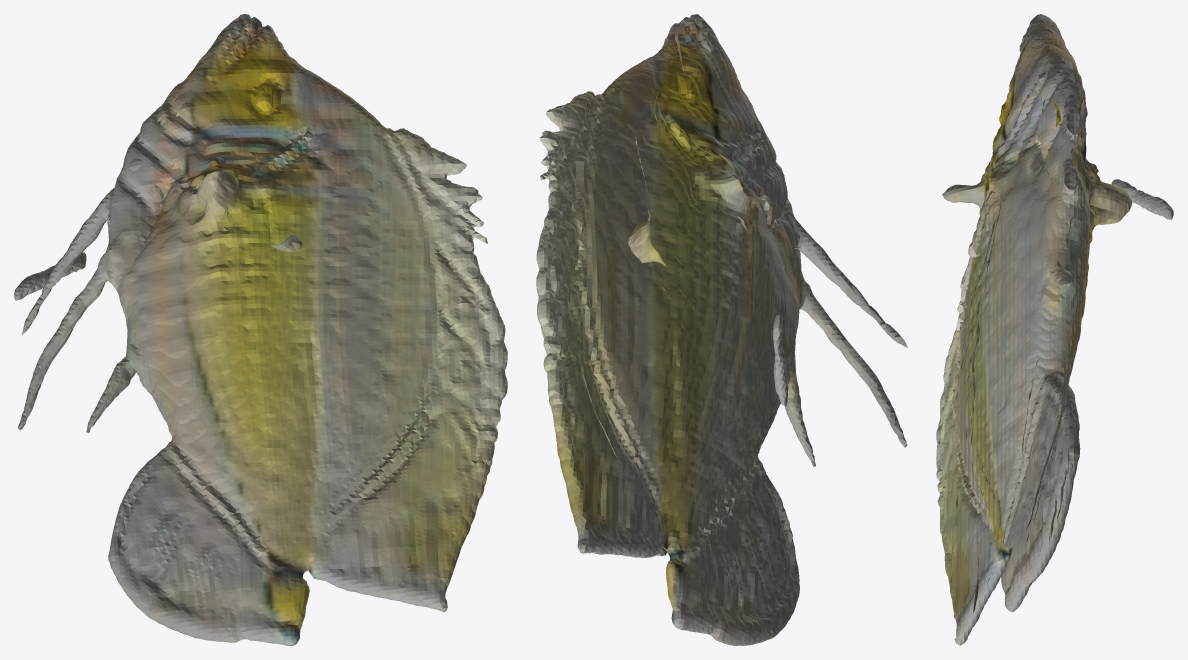
The model's file is angelfish.glb.
3 renders of one model, left to right at view 1: azimuth 30°, elevation 25°; view 2: azimuth 150°, elevation 25°; view 3: azimuth 270°, elevation 25°, orthographic. The views are drawn at different scales.
Parts seen in each view (by area): view 1: world; view 2: world; view 3: world.
Part boxes in pixels (box(x1,y1,x2,y2)): world: box(14, 14, 507, 645); world: box(536, 14, 907, 645); world: box(936, 14, 1173, 645).
Size of the model in its own units: 0.7725 by 1.08 by 0.3986.
